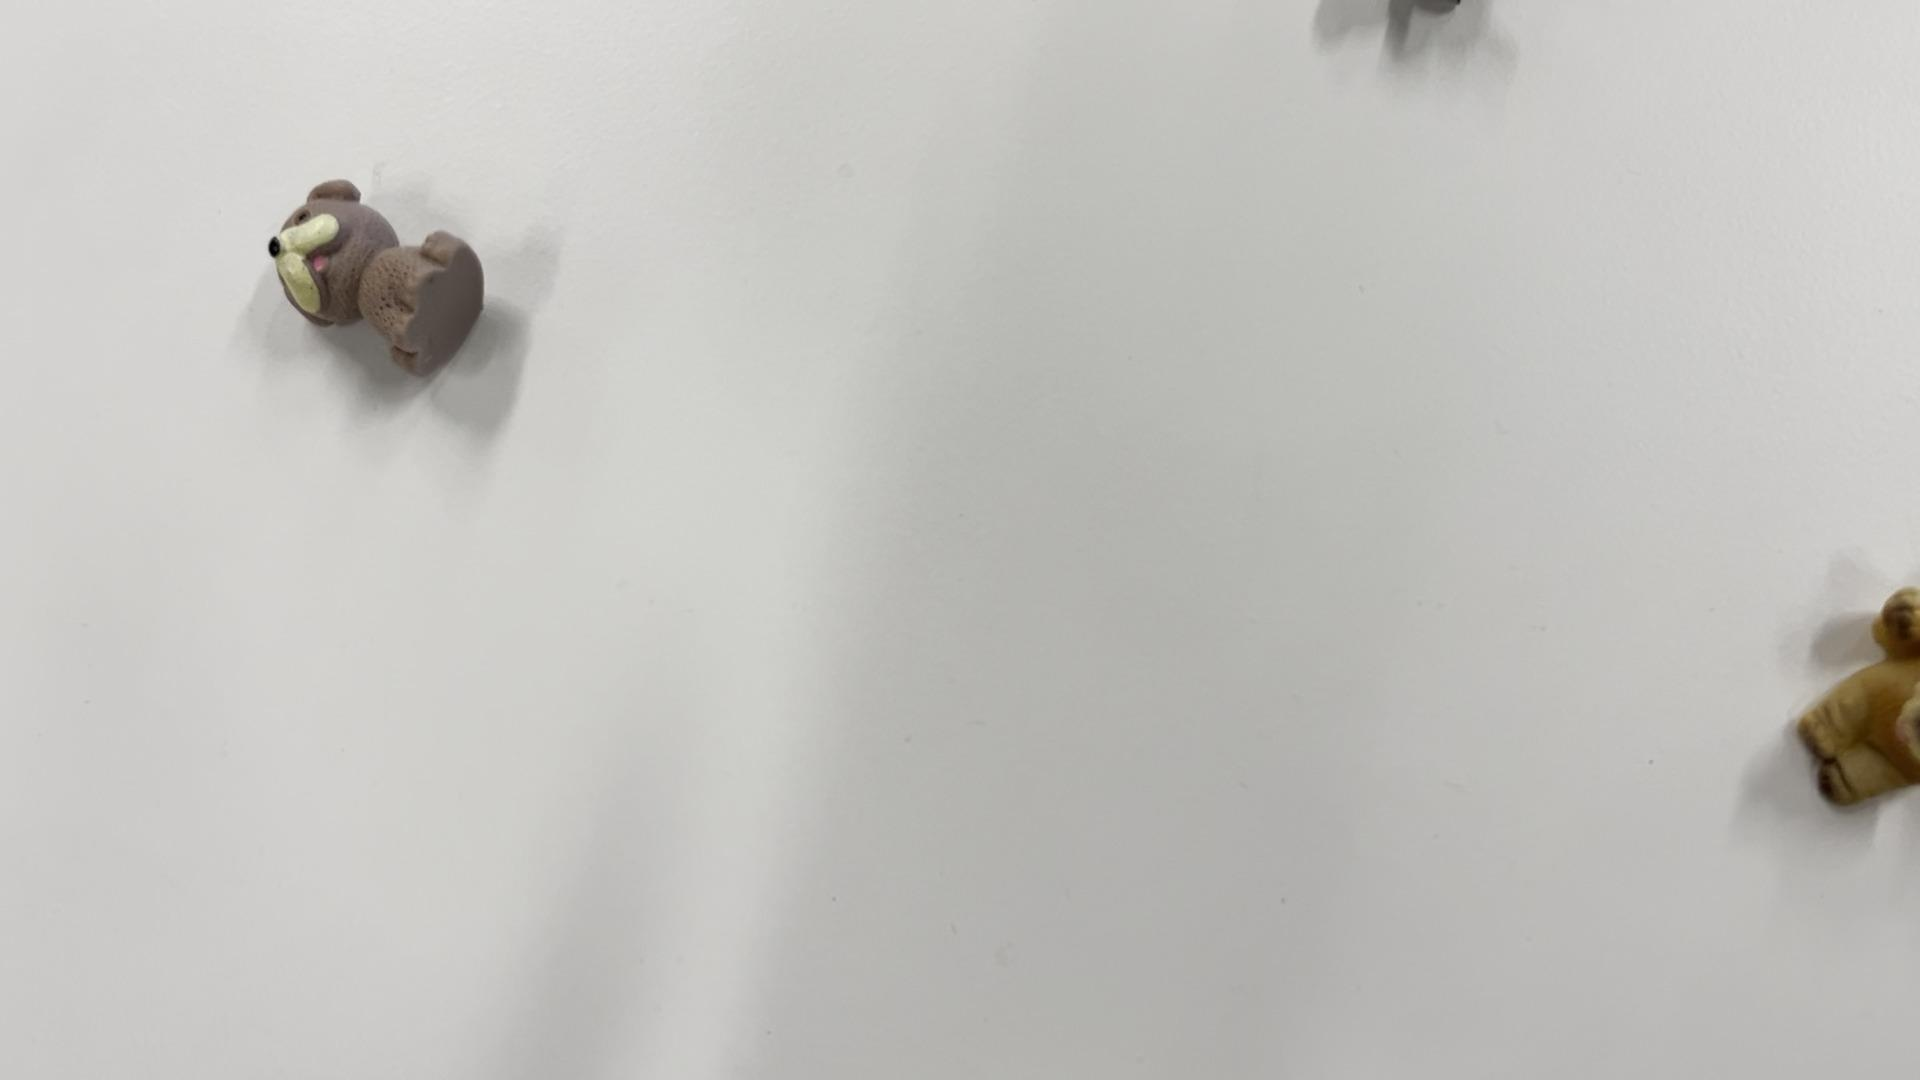pet: (258, 167, 496, 388)
